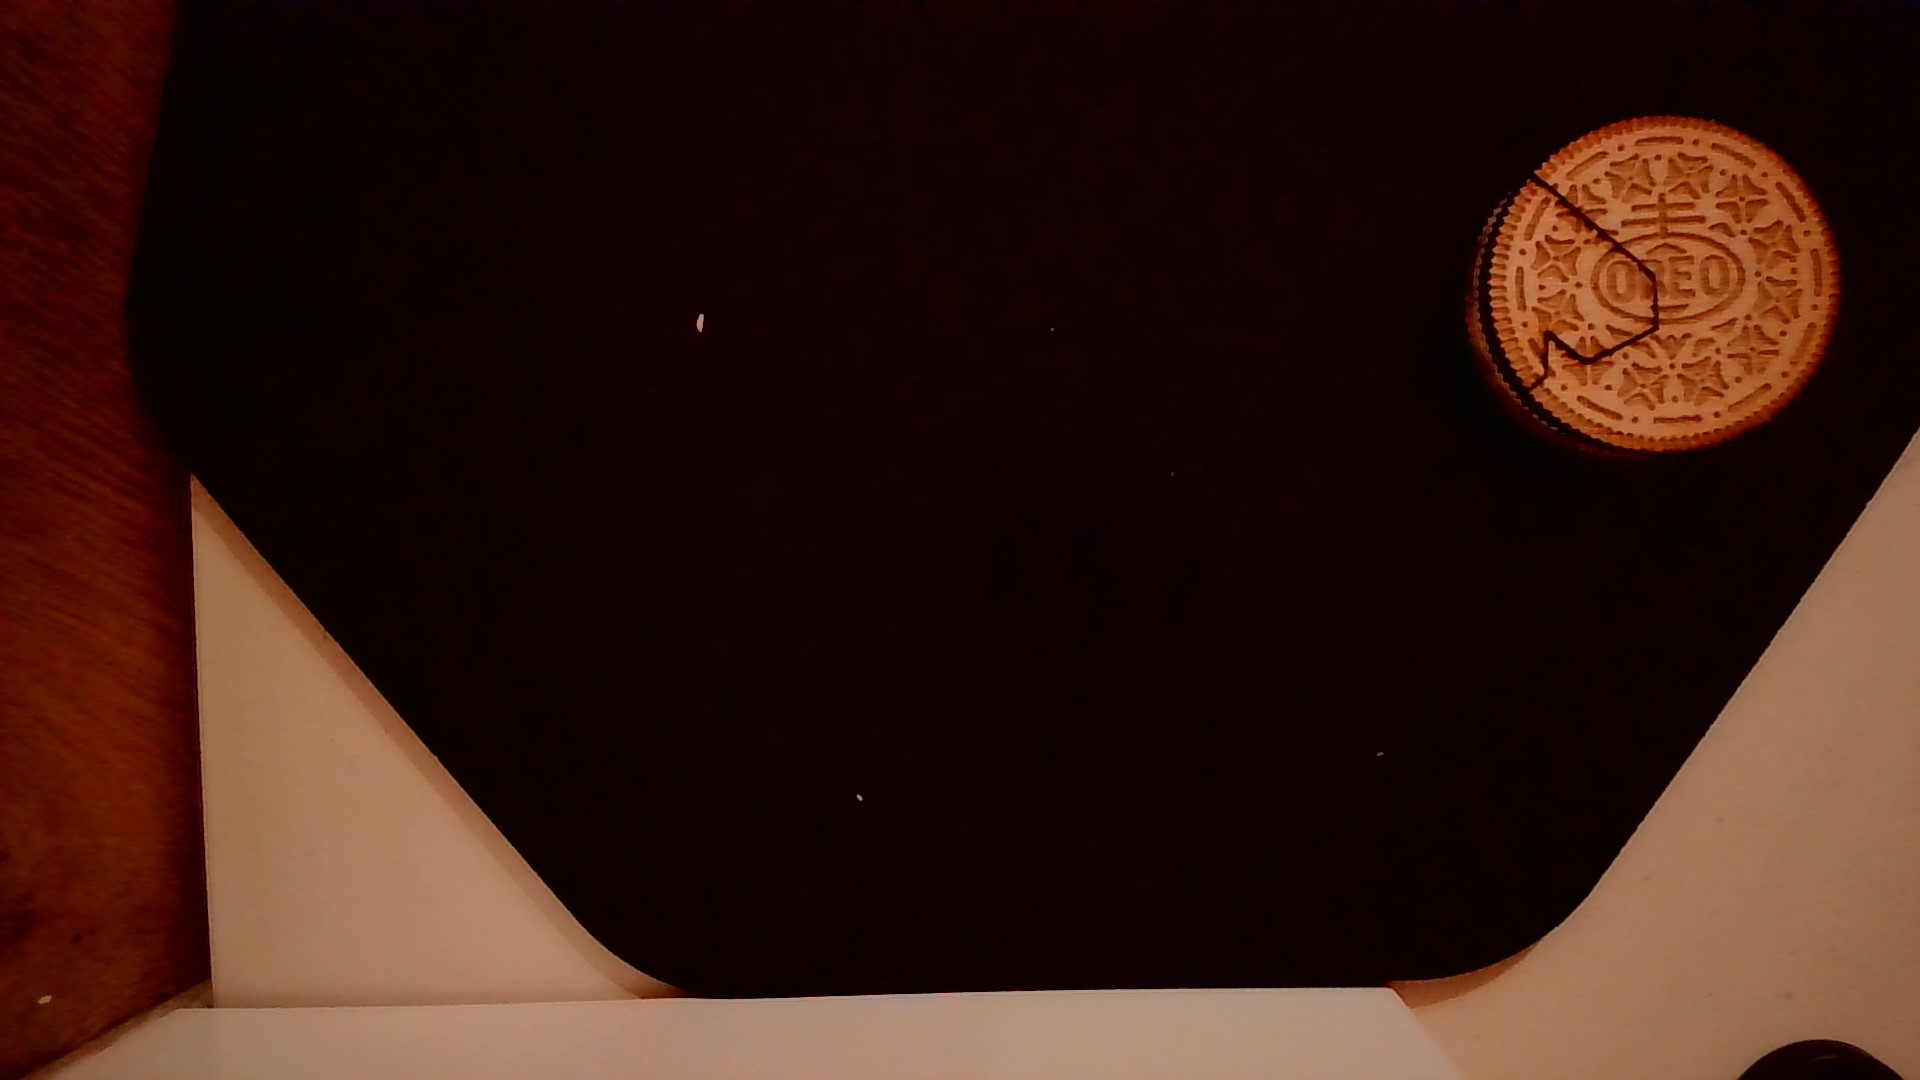Fissure: (1501, 157, 1664, 405)
Oréo: (1455, 108, 1847, 464)
